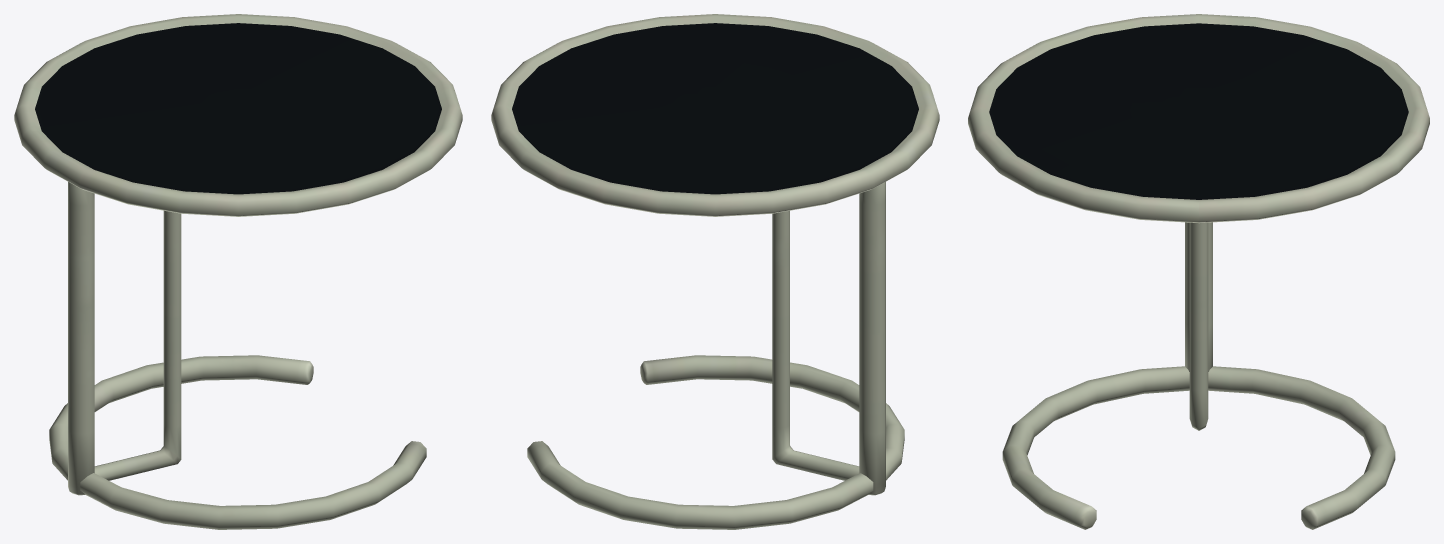
3 renders of one model, left to right at view 1: azimuth 30°, elevation 25°; view 2: azimuth 150°, elevation 25°; view 3: azimuth 270°, elevation 25°, orthographic. The views are drawn at different scales.
Bounding box in the file's own units: 9.3 × 7.95 × 9.3.
Materials: 2 (2 with a texture image).
